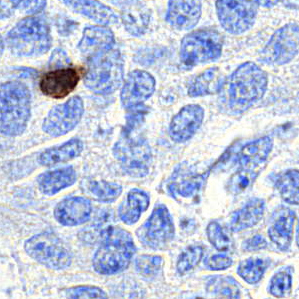Lymphocyte: (38, 66, 84, 98)
